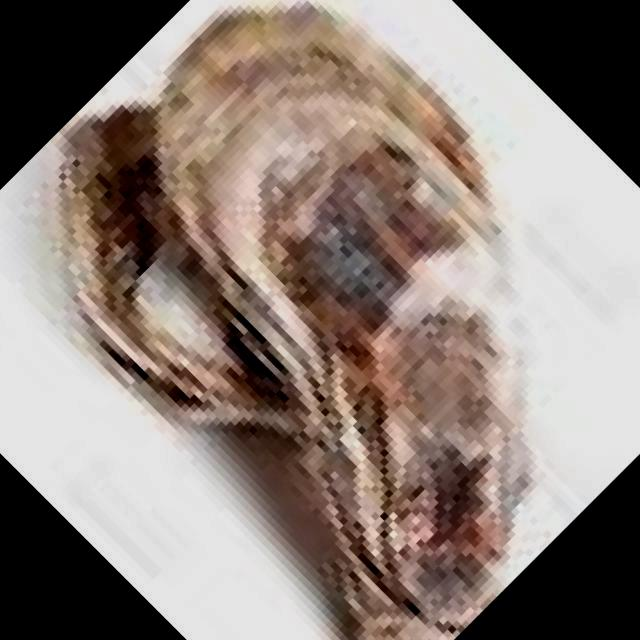Oyster-Closed: (157, 0, 529, 637), (59, 104, 313, 435)
